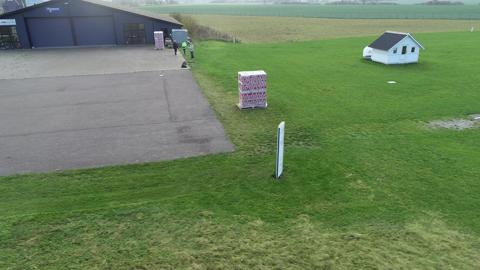RockwoolPallet: (153, 31, 165, 50)
